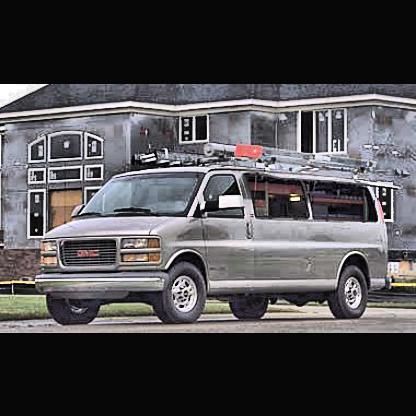GMC Savana Van 2012: (29, 145, 389, 328)
